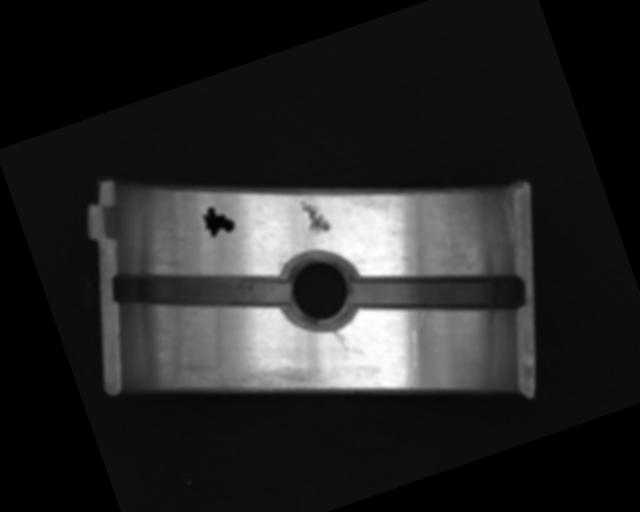blot: (198, 201, 237, 240)
bruise: (298, 195, 332, 238)
gap: (109, 225, 292, 356), (350, 233, 526, 355)
hole: (272, 243, 366, 339)
nick: (388, 329, 434, 391), (330, 326, 349, 355)
scratch: (172, 333, 327, 434)
